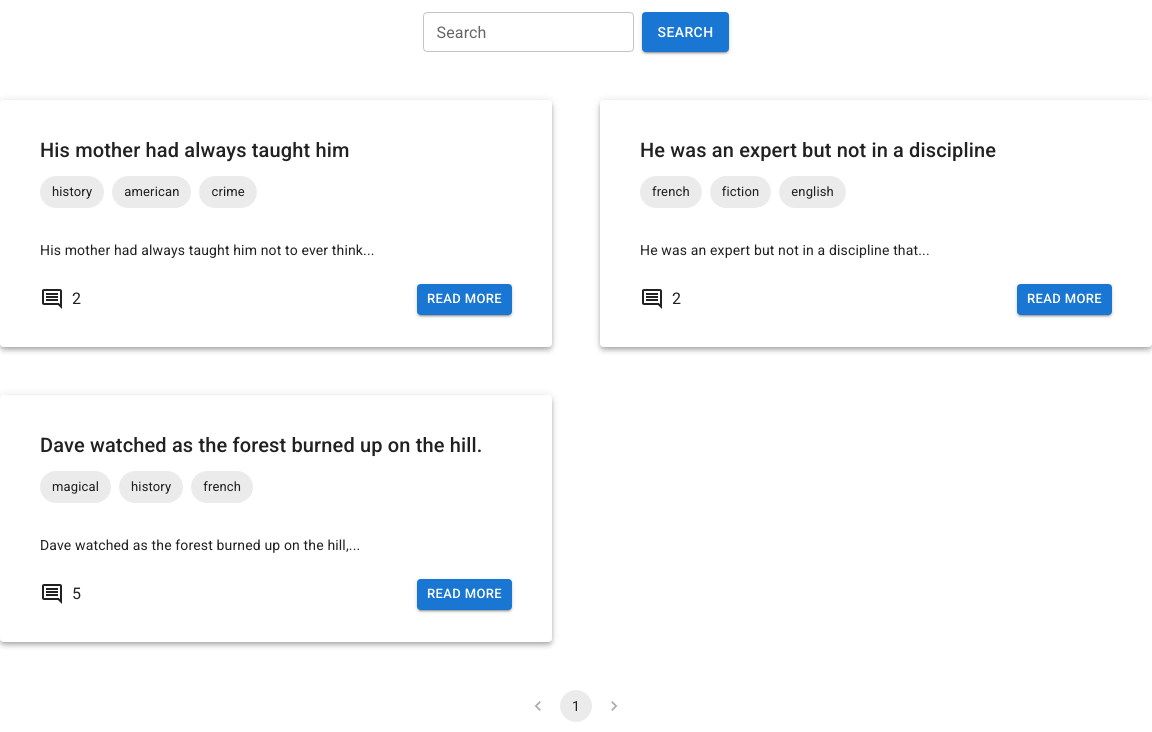
Scenario: searches posts by text
Expected: the number of elements with test id "post-card" is 3, [0,100,552,347]; [600,100,1151,347]; [0,395,552,642]
Step 1. Type "test" into the search field labelled "Search" → point(528, 32), box [422,12,634,52]
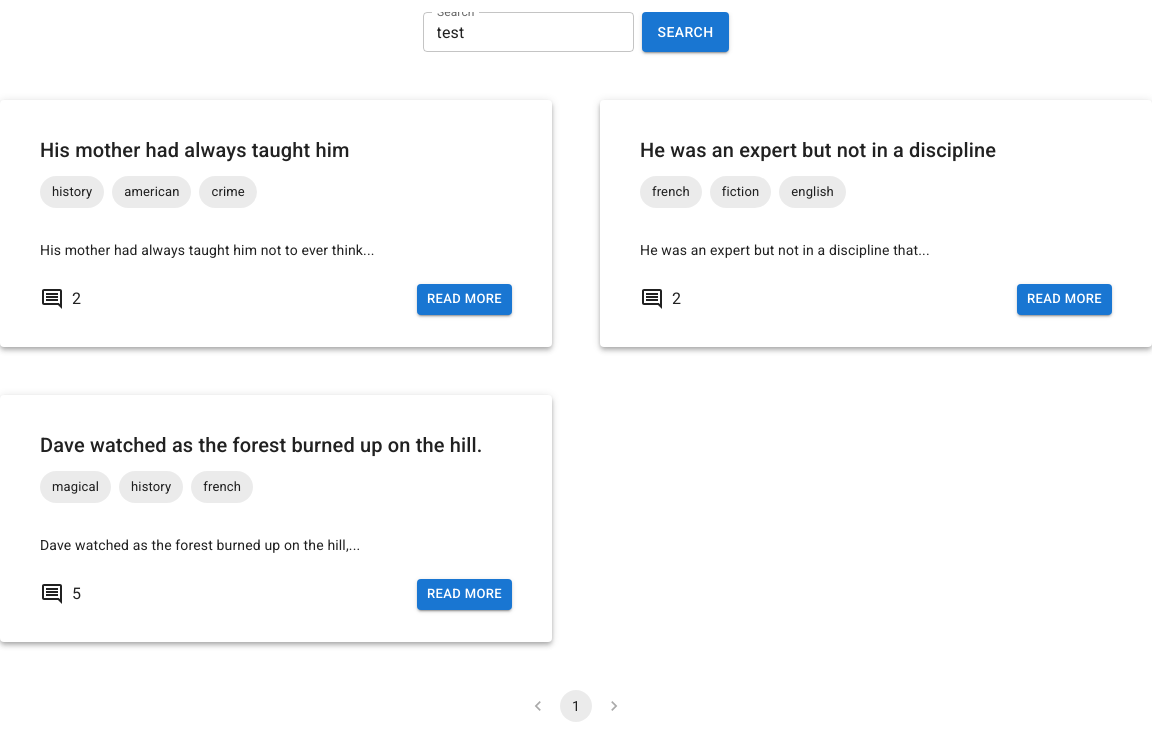
Step 2. Click the button "Search" → point(686, 32), box [642,12,730,52]
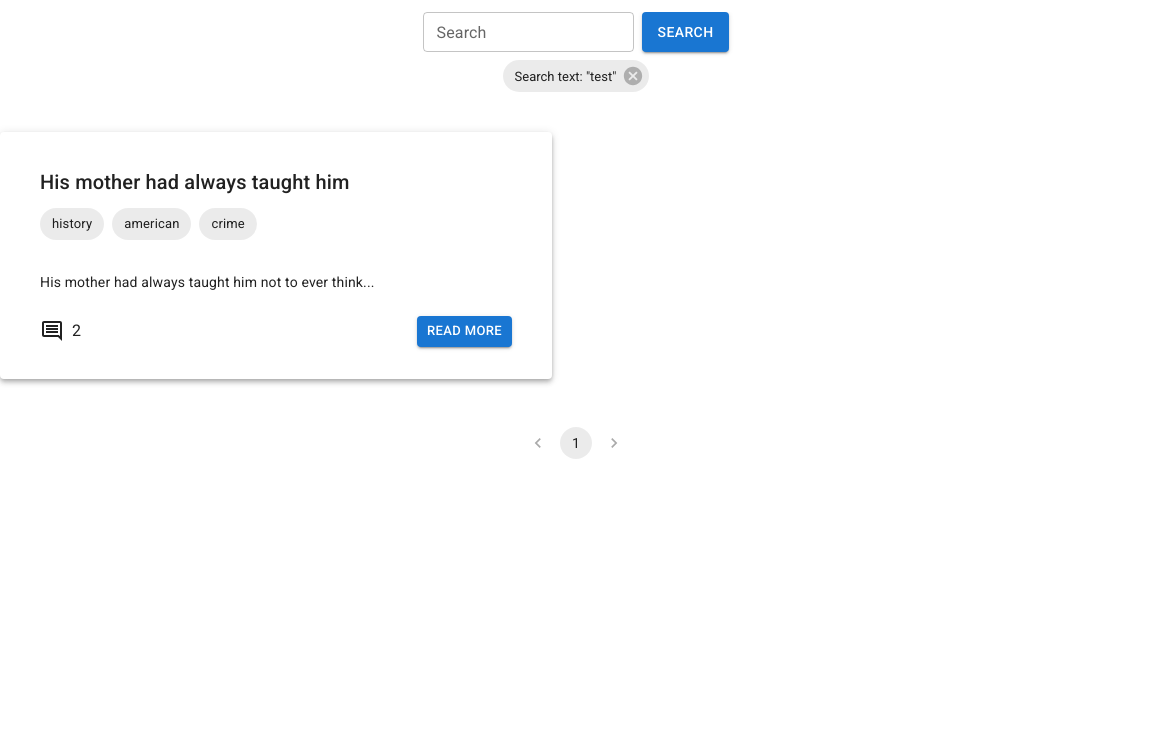
Expected: the number of elements with test id "post-card" is 1, [0,132,552,379]
Expected: the search field labelled "Search" is empty, [422,12,634,52]
Step 3. Click the icon with test id "CancelIcon" → point(633, 76), box [622,65,644,87]
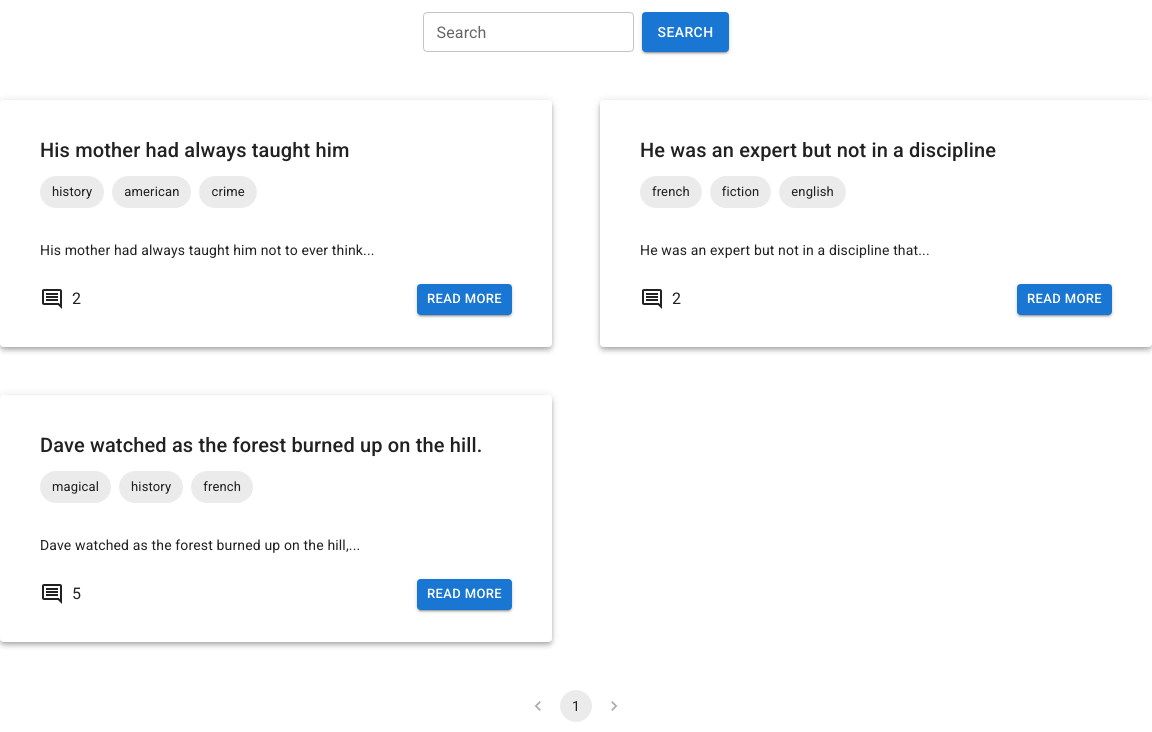
Expected: the number of elements with test id "post-card" is 3, [0,100,552,347]; [600,100,1151,347]; [0,395,552,642]
